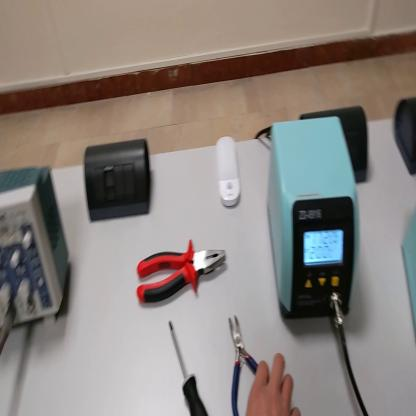hand: (247, 355, 301, 415)
oscilloscope: (1, 158, 70, 344)
pliers: (137, 246, 230, 307), (227, 316, 256, 416)
screwdriver-: (166, 319, 211, 414)
socket: (298, 99, 370, 182), (394, 95, 416, 181)
welder base: (402, 204, 416, 344)
welder station: (268, 107, 363, 326)
